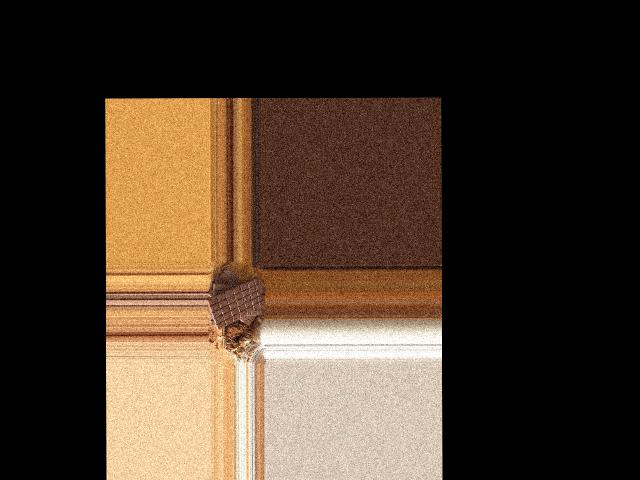chocolate: (207, 275, 263, 332)
